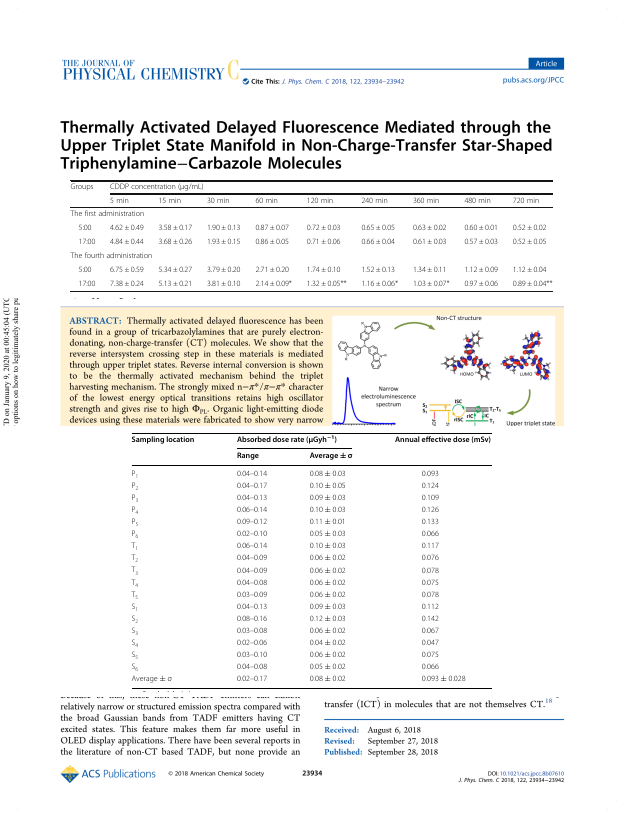borderless: (130, 431, 492, 688), (69, 179, 553, 291)
cell: (236, 434, 338, 445), (394, 435, 492, 445), (109, 183, 205, 192), (70, 251, 153, 261), (70, 209, 145, 219), (131, 435, 195, 445), (309, 451, 353, 461), (421, 675, 467, 684), (306, 279, 347, 289), (512, 279, 553, 289), (254, 279, 293, 289), (360, 279, 399, 289), (130, 675, 173, 684), (309, 469, 347, 479), (309, 481, 347, 491), (309, 590, 347, 600), (309, 602, 347, 612), (412, 279, 450, 289), (109, 223, 145, 233), (157, 223, 193, 233), (254, 223, 290, 233), (360, 223, 396, 233), (463, 223, 499, 233), (109, 237, 145, 247), (157, 237, 193, 247), (254, 237, 290, 247), (360, 237, 396, 247), (463, 237, 499, 247), (109, 265, 145, 275), (157, 265, 193, 275), (254, 265, 290, 275), (360, 265, 396, 275), (463, 265, 499, 275), (109, 279, 145, 289), (157, 279, 193, 289), (463, 279, 499, 289), (206, 223, 241, 233), (306, 223, 341, 233), (412, 223, 447, 233), (512, 223, 547, 233), (206, 237, 241, 247), (306, 237, 341, 247), (412, 237, 447, 247), (512, 237, 547, 247), (206, 265, 241, 275), (306, 265, 341, 275), (412, 265, 447, 275), (512, 265, 547, 275), (206, 279, 241, 289), (309, 494, 347, 503), (309, 506, 347, 515), (309, 518, 347, 527), (309, 530, 347, 539), (309, 542, 347, 551), (309, 554, 347, 563), (309, 566, 347, 575), (309, 578, 347, 587), (309, 615, 347, 624), (309, 627, 347, 636), (309, 639, 347, 648), (309, 651, 347, 660), (309, 663, 347, 672), (309, 675, 347, 684), (236, 469, 268, 479), (236, 481, 268, 491), (236, 590, 268, 600), (236, 602, 268, 612), (236, 494, 268, 503), (236, 506, 268, 515), (236, 518, 268, 527), (236, 530, 268, 539), (236, 542, 268, 551), (236, 554, 268, 563), (236, 566, 268, 575), (236, 578, 268, 587), (236, 615, 268, 624), (236, 627, 268, 636), (236, 639, 268, 648), (236, 651, 268, 660), (236, 663, 268, 672), (236, 675, 268, 684), (360, 196, 389, 205), (463, 196, 492, 205), (306, 196, 334, 205), (412, 196, 440, 205), (512, 196, 540, 205), (236, 451, 260, 461), (157, 196, 182, 205), (254, 196, 279, 205), (70, 183, 94, 192), (206, 196, 230, 205), (421, 469, 440, 479), (421, 481, 440, 491), (421, 590, 440, 600), (421, 602, 440, 612), (77, 237, 96, 247), (77, 279, 96, 289), (109, 196, 130, 205), (421, 494, 440, 503), (421, 506, 440, 515), (421, 518, 440, 527), (421, 530, 440, 539), (421, 542, 440, 551), (421, 554, 440, 563), (421, 566, 440, 575), (421, 578, 440, 587), (421, 615, 440, 624), (421, 627, 440, 636), (421, 639, 440, 648), (421, 651, 440, 660), (421, 663, 440, 672), (77, 223, 92, 233), (77, 265, 92, 275), (130, 542, 139, 553), (130, 554, 139, 565), (130, 566, 139, 577), (130, 578, 139, 589), (130, 590, 139, 601), (130, 602, 139, 613), (130, 651, 139, 662), (130, 663, 139, 674), (130, 615, 139, 625), (130, 627, 139, 637), (130, 639, 139, 649), (131, 469, 139, 480), (131, 481, 139, 492), (131, 530, 139, 541), (131, 494, 139, 504), (131, 506, 139, 516), (131, 518, 139, 528)
